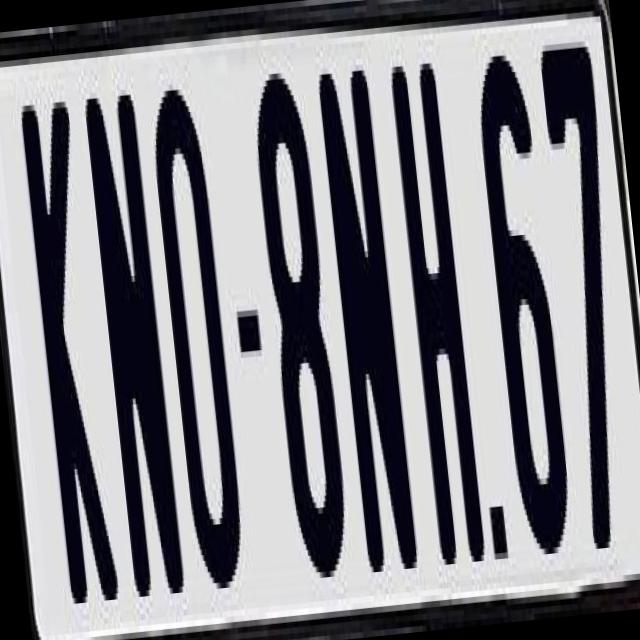0: (146, 87, 258, 626)
6: (472, 52, 574, 556)
7: (534, 29, 638, 555)
8: (243, 54, 349, 562)
H: (384, 44, 490, 576)
K: (14, 84, 120, 622)
N: (312, 69, 426, 608), (82, 87, 190, 608)
